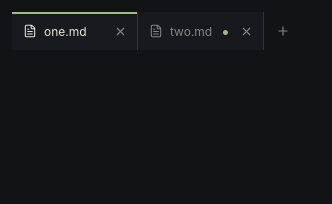
it: Tabs › omits pane moves when the workspace has a single pane
The width and height of the screenshot is (332, 204).
Right-click the tab "one.md" at (60, 31), box top-left (12, 12), bottom-right (108, 50)
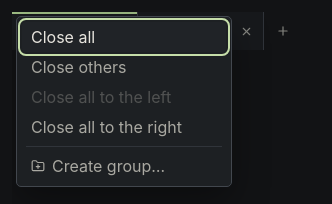
Expected: the menu is shown, top-left (16, 16), bottom-right (232, 187)
